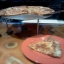pizza: (1, 5, 55, 18), (26, 38, 59, 52)
